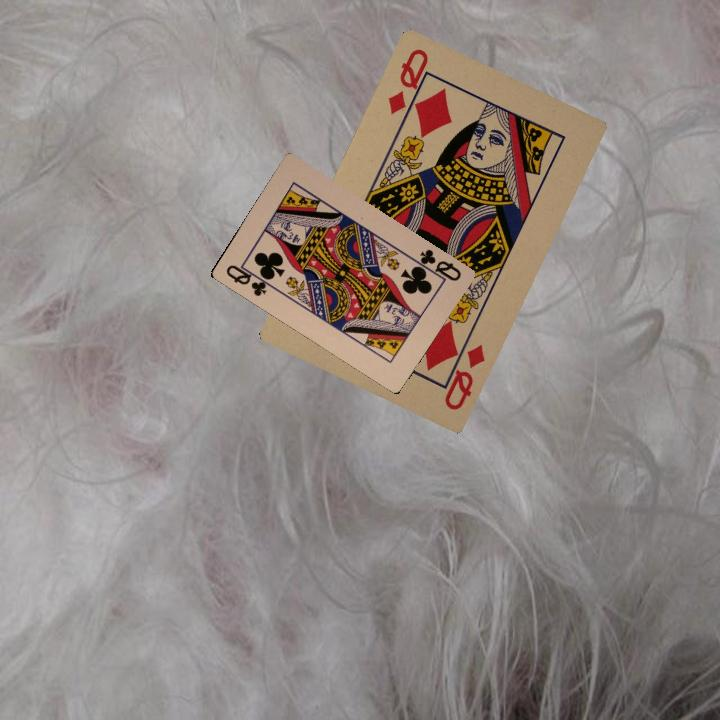Qc: (411, 245, 464, 285), (222, 261, 274, 299)
Qd: (435, 334, 488, 413), (383, 44, 431, 127)
